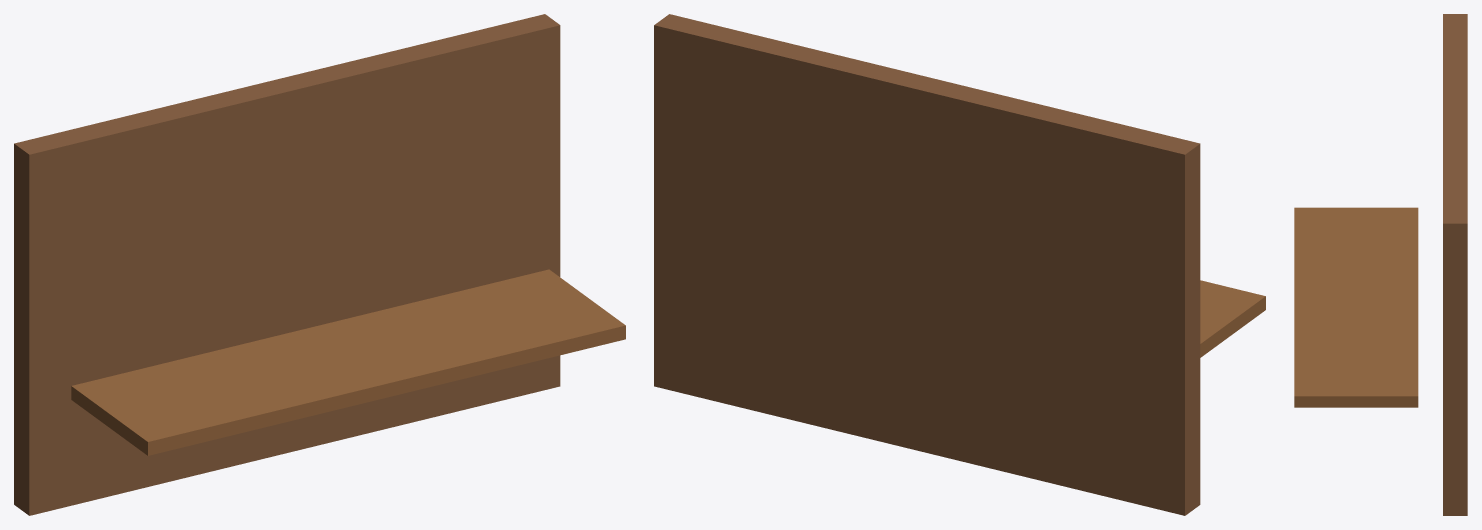
File: atelier.glb
3 renders of one model, left to right at view 1: azimuth 30°, elevation 25°; view 2: azimuth 150°, elevation 25°; view 3: azimuth 270°, elevation 25°, orthographic. The views are drawn at different scales.
Size of the model in its own units: 4 by 2.6 by 1.4.
